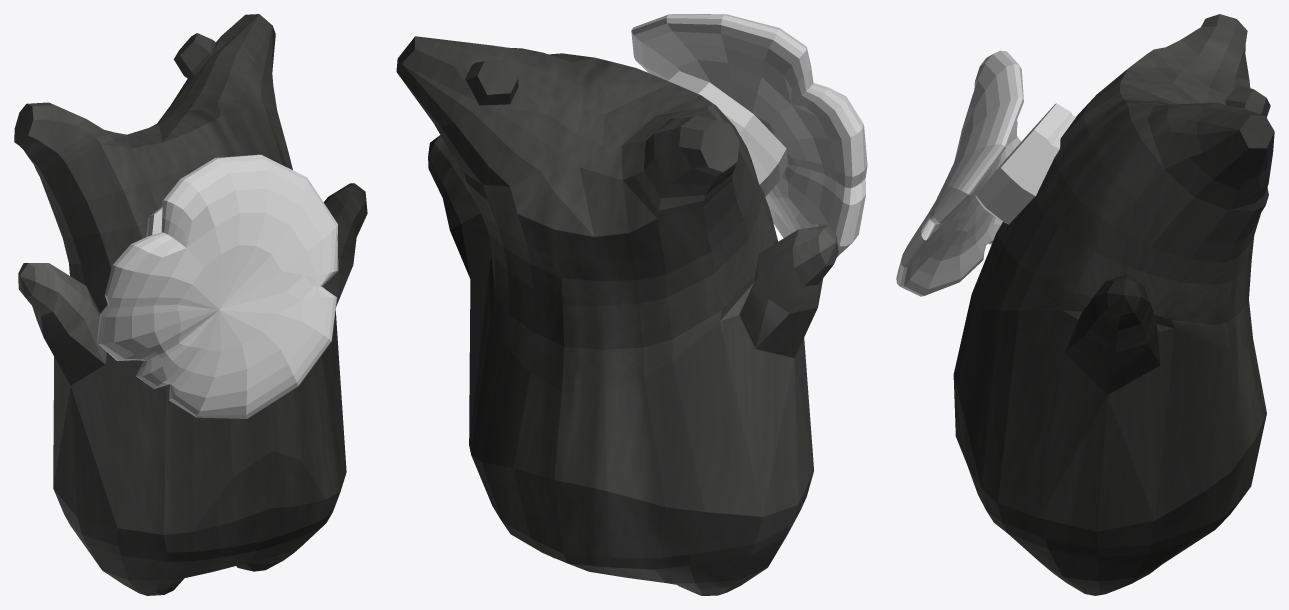
File: frame_0014.obj
3 renders of one model, left to right at view 1: azimuth 30°, elevation 25°; view 2: azimuth 150°, elevation 25°; view 3: azimuth 270°, elevation 25°, orthographic. The views are drawn at different scales.
Parts seen in each view (by area): view 1: korok, leaf; view 2: korok, leaf, nose; view 3: korok, leaf, nose.
Part boxes in pixels (x1,y1,x2,y2): korok: (14, 14, 367, 595); leaf: (97, 154, 338, 418); korok: (396, 36, 838, 595); leaf: (631, 14, 867, 256); nose: (668, 71, 788, 196); korok: (953, 14, 1274, 595); leaf: (896, 50, 1023, 296); nose: (975, 103, 1075, 224).
Size of the model in its own units: 1.57 by 2.1 by 1.4.
